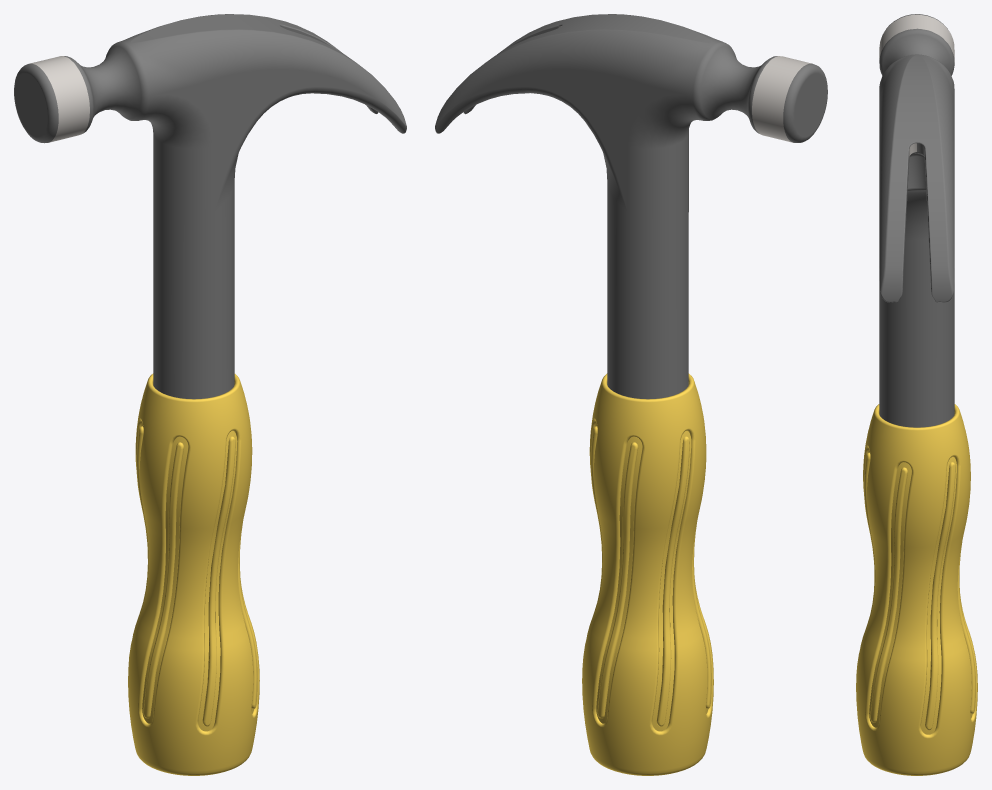
Rendered from hammer_part.dae.
3 renders of one model, left to right at view 1: azimuth 30°, elevation 25°; view 2: azimuth 150°, elevation 25°; view 3: azimuth 270°, elevation 25°, orthographic. The views are drawn at different scales.
Visible parts, largest first — view 1: mesh_2_Hammer01-1-solid1_face, mesh_1_hamm, mesh_3_Hammer-1-solid1; view 2: mesh_2_Hammer01-1-solid1_face, mesh_1_hamm, mesh_3_Hammer-1-solid1; view 3: mesh_1_hamm, mesh_2_Hammer01-1-solid1_face, mesh_3_Hammer-1-solid1.
Part boxes in pixels (<box>): mesh_2_Hammer01-1-solid1_face: <box>14,14,406,399</box>; mesh_1_hamm: <box>128,373,259,775</box>; mesh_3_Hammer-1-solid1: <box>30,56,89,142</box>; mesh_2_Hammer01-1-solid1_face: <box>435,14,827,399</box>; mesh_1_hamm: <box>582,373,713,775</box>; mesh_3_Hammer-1-solid1: <box>558,26,811,142</box>; mesh_1_hamm: <box>856,404,977,775</box>; mesh_2_Hammer01-1-solid1_face: <box>879,14,954,427</box>; mesh_3_Hammer-1-solid1: <box>879,14,954,156</box>.
Size of the model in its own units: 0.1264 by 0.0404 by 0.247.
